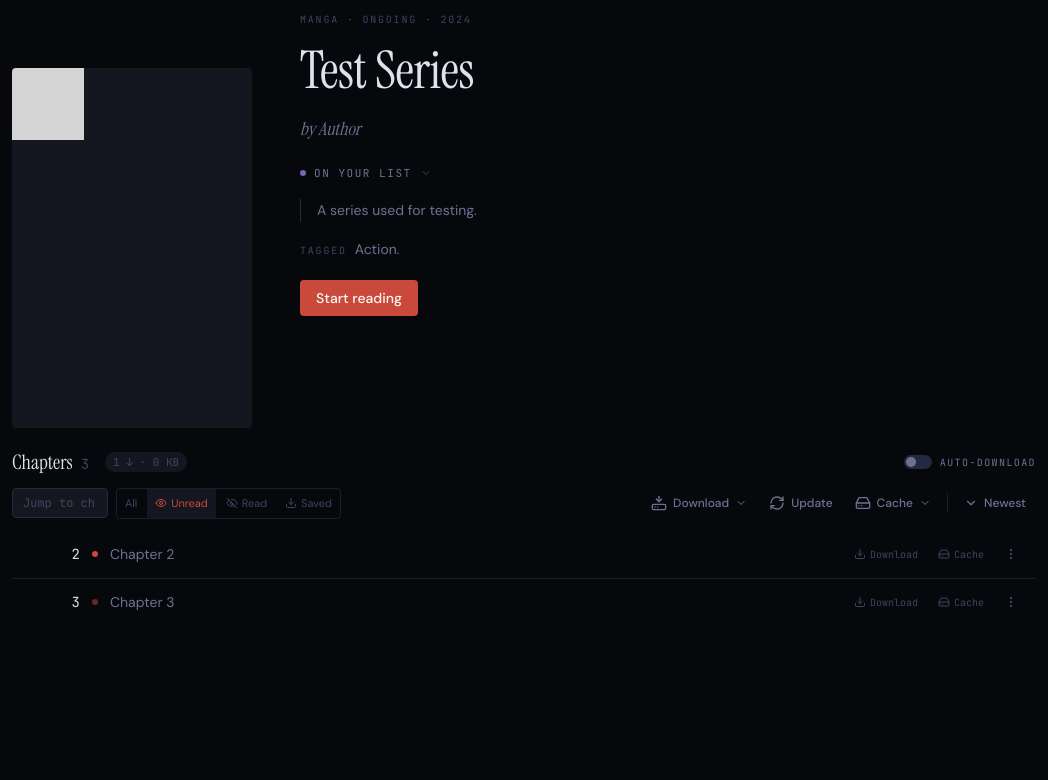
Test case: SeriesView › shows the worker error when a manga update fails
Expected: the heading "Test Series" is shown, [300,37,474,104]
Click the button with aria-label "Update this manga". click: (801, 503)
box: [759,489,843,517]
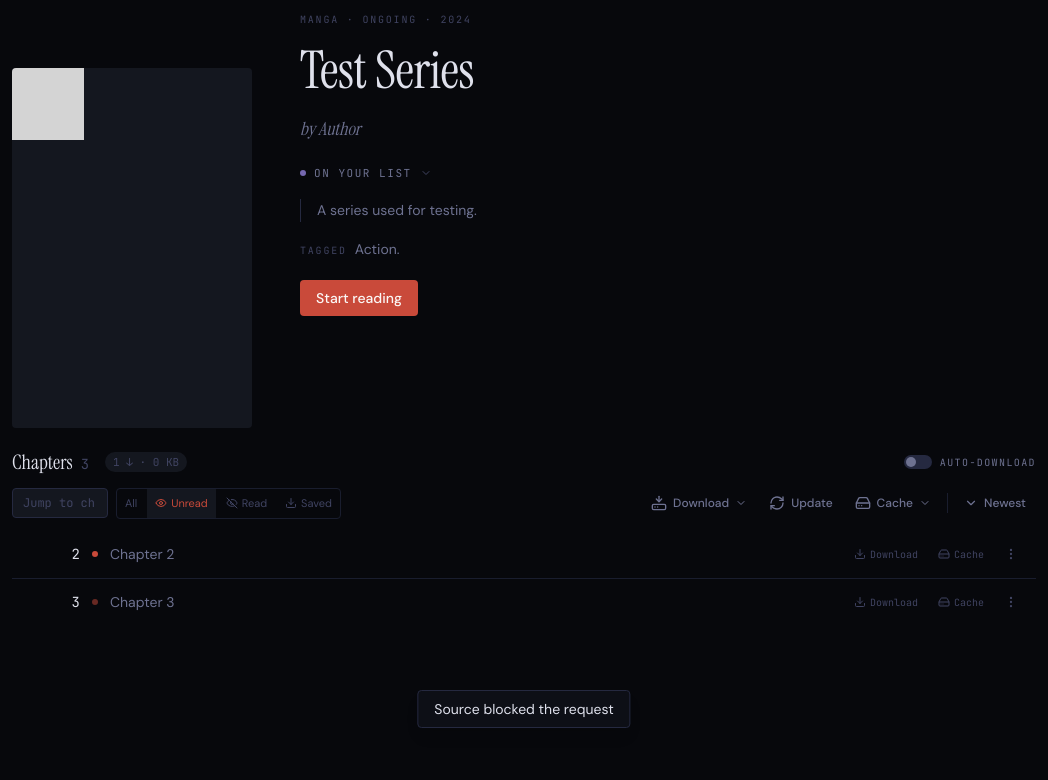
Now the text "Source blocked the request" is shown, box [417,690,631,728]
